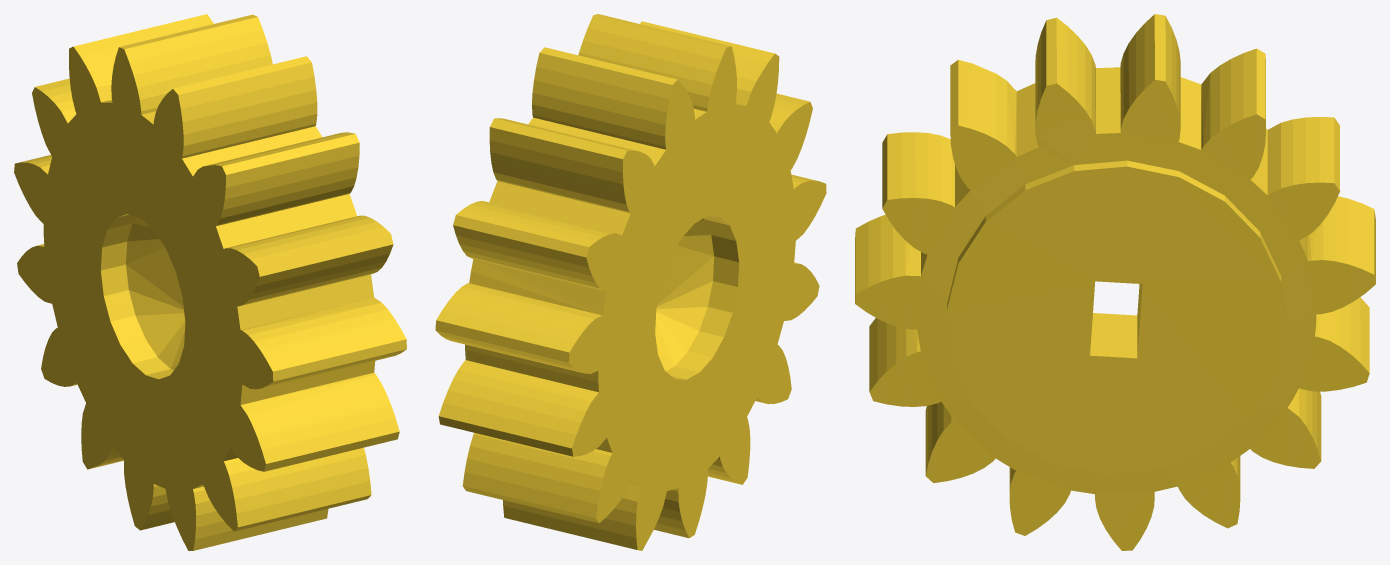
File: left_shoulder_z_link_visual_10.obj.light.glb
3 views of the same model, side by side, from view 1: azimuth 30°, elevation 25°; view 2: azimuth 150°, elevation 25°; view 3: azimuth 270°, elevation 25° (orthographic).
Size of the model in its own units: 0.0675 by 0.2062 by 0.2064.
